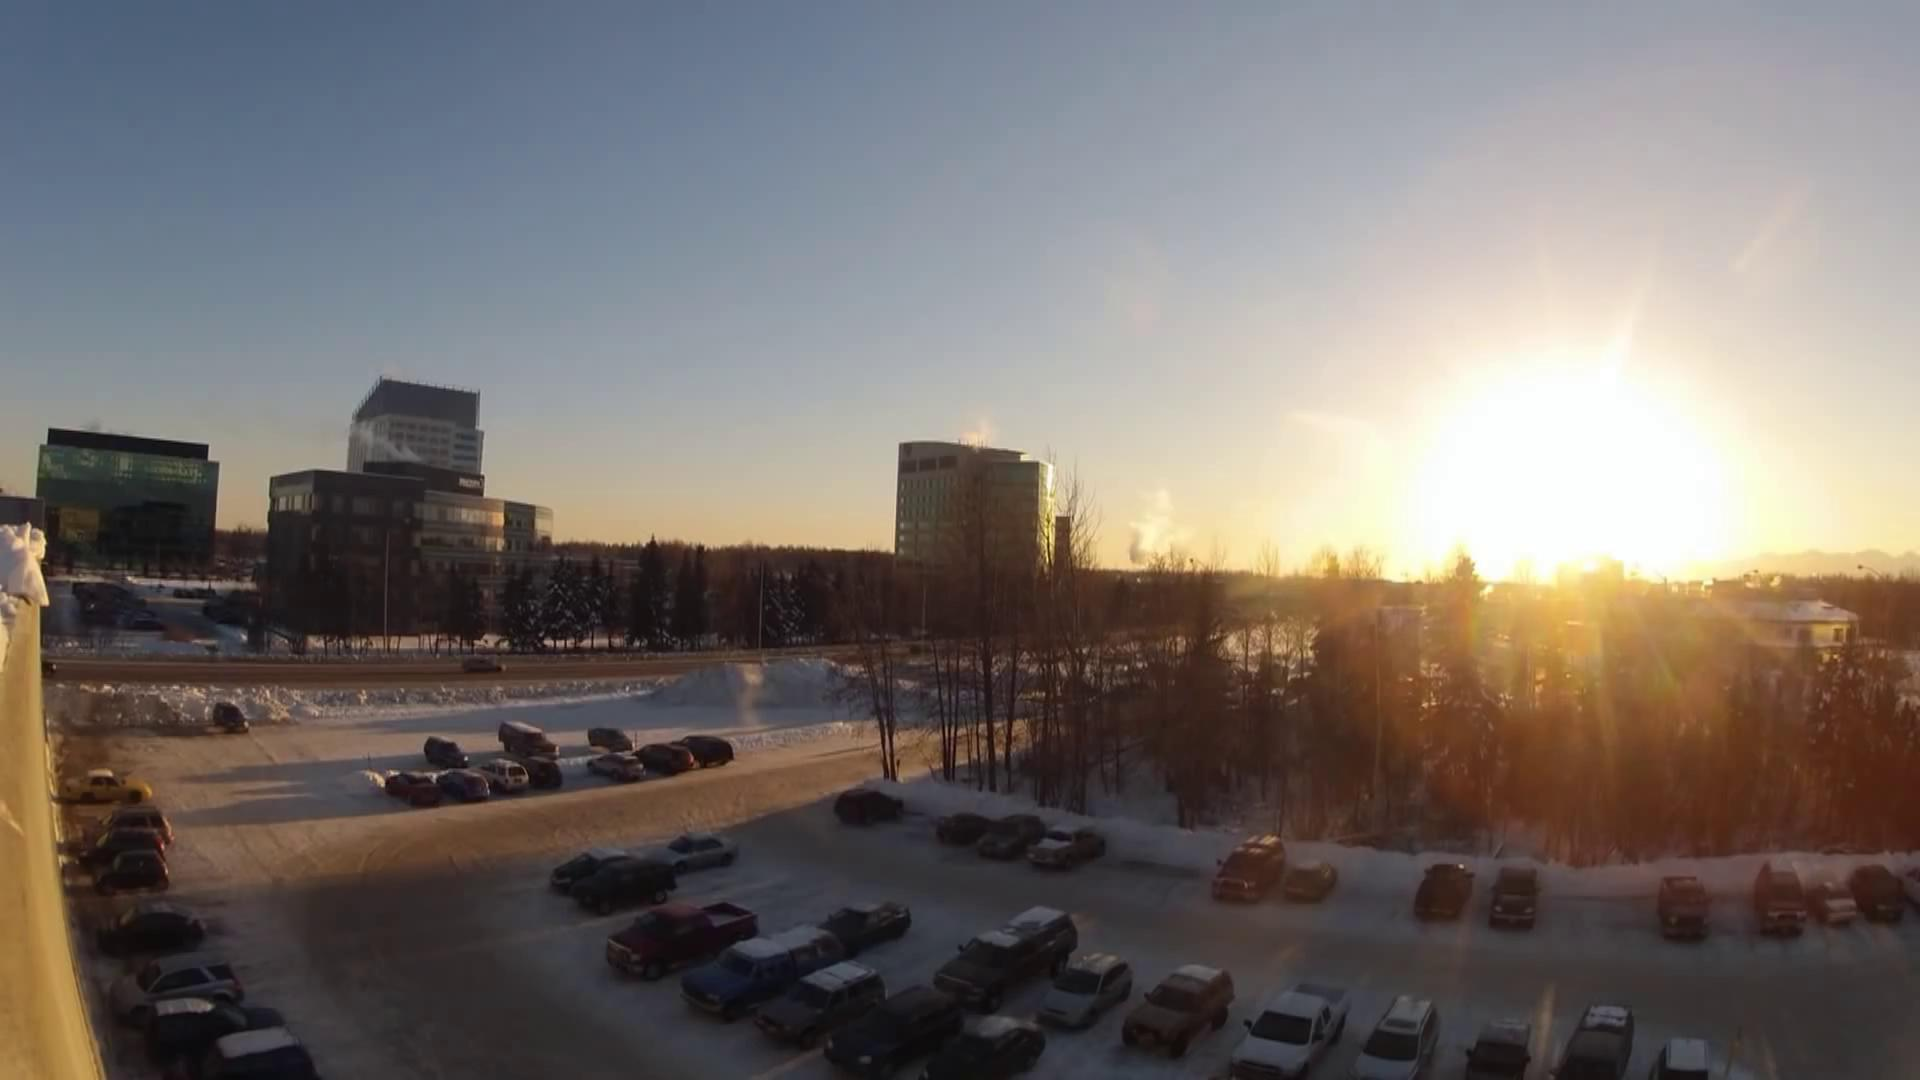Fire: (342, 425, 419, 462)
